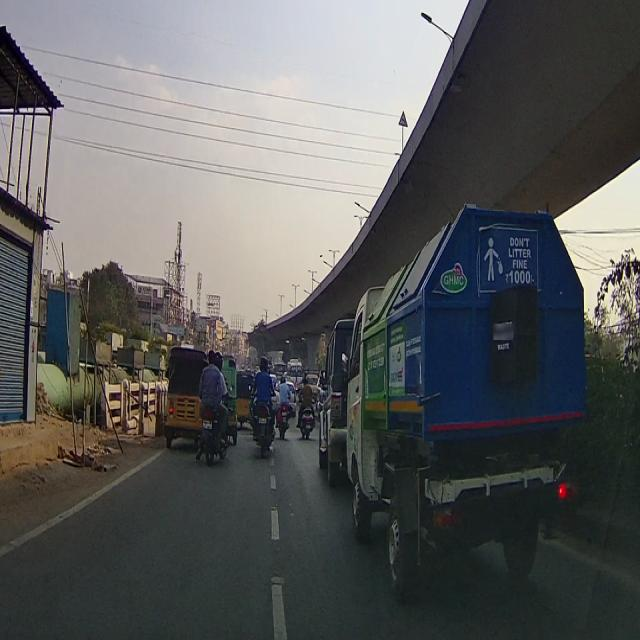left-hand-curve: (398, 107, 408, 126)
